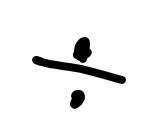div: (30, 37, 123, 108)
